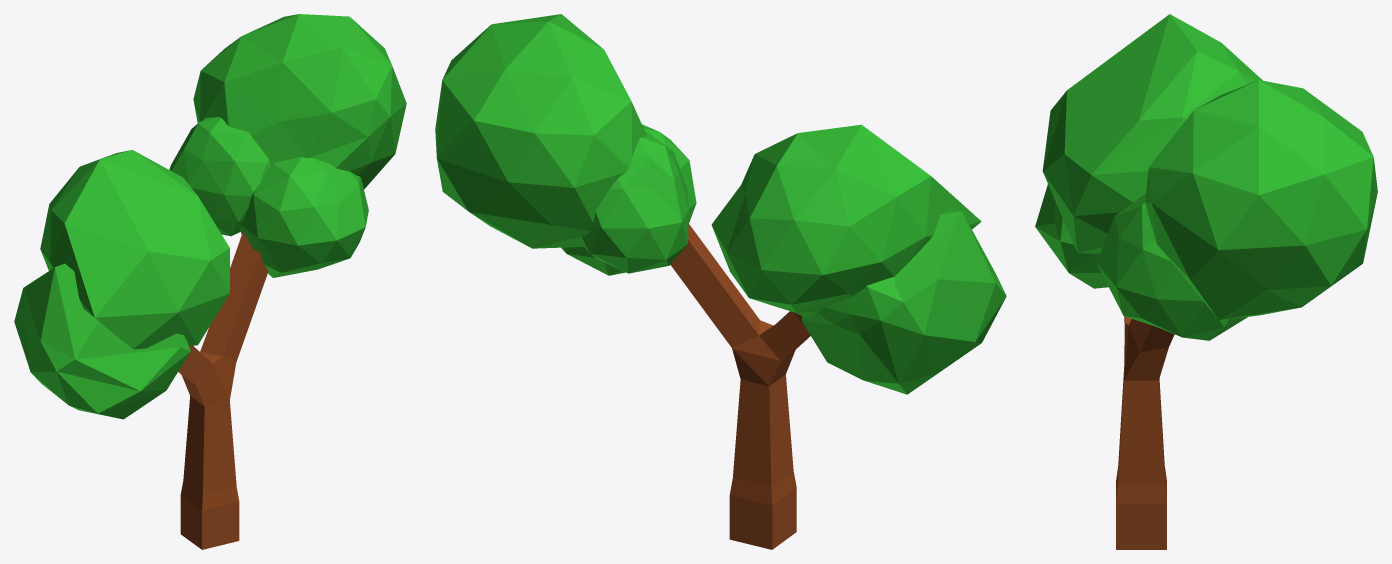
The model's file is derevo1.fbx.
The picture shows the model from 3 angles, left to right: view 1: azimuth 30°, elevation 25°; view 2: azimuth 150°, elevation 25°; view 3: azimuth 270°, elevation 25°; orthographic projection. The views are drawn at different scales.
Visible parts, largest first — view 1: Icosphere, Cube; view 2: Icosphere, Cube; view 3: Icosphere, Cube.
Part boxes in pixels (box(x1,y1,x2,y2)): Icosphere: box(14, 14, 406, 419); Cube: box(178, 231, 268, 549); Icosphere: box(435, 14, 1006, 394); Cube: box(670, 224, 810, 549); Icosphere: box(1035, 14, 1377, 340); Cube: box(1116, 316, 1174, 549).
Bounding box in the file's own units: 276 × 287 × 165.
